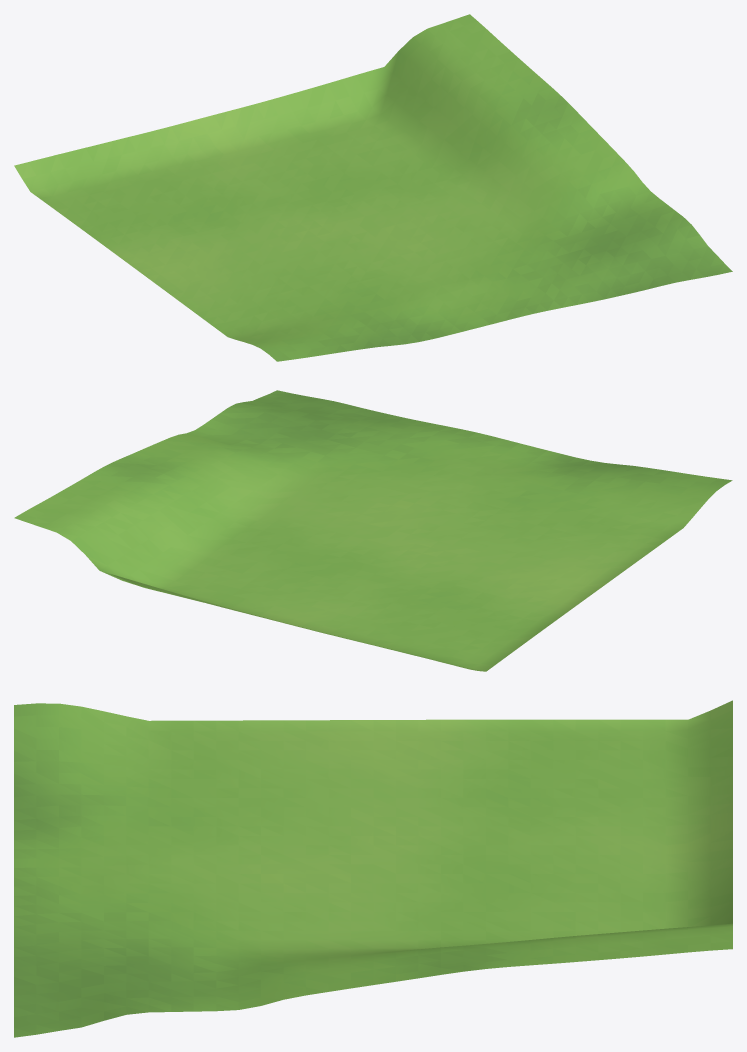
File: terrain_r4_c2.glb
3 renders of one model, top to bottom at view 1: azimuth 30°, elevation 25°; view 2: azimuth 150°, elevation 25°; view 3: azimuth 270°, elevation 25°, orthographic. The views are drawn at different scales.
Visible parts, largest first — view 1: terrain_r4_c2; view 2: terrain_r4_c2; view 3: terrain_r4_c2.
Part boxes in pixels (x1,y1,x2,y2): terrain_r4_c2: [14, 14, 732, 361]; terrain_r4_c2: [14, 390, 732, 671]; terrain_r4_c2: [14, 700, 732, 1037].
Bounding box in the file's own units: 128 × 17.39 × 128.
1 material, 1 textured.
